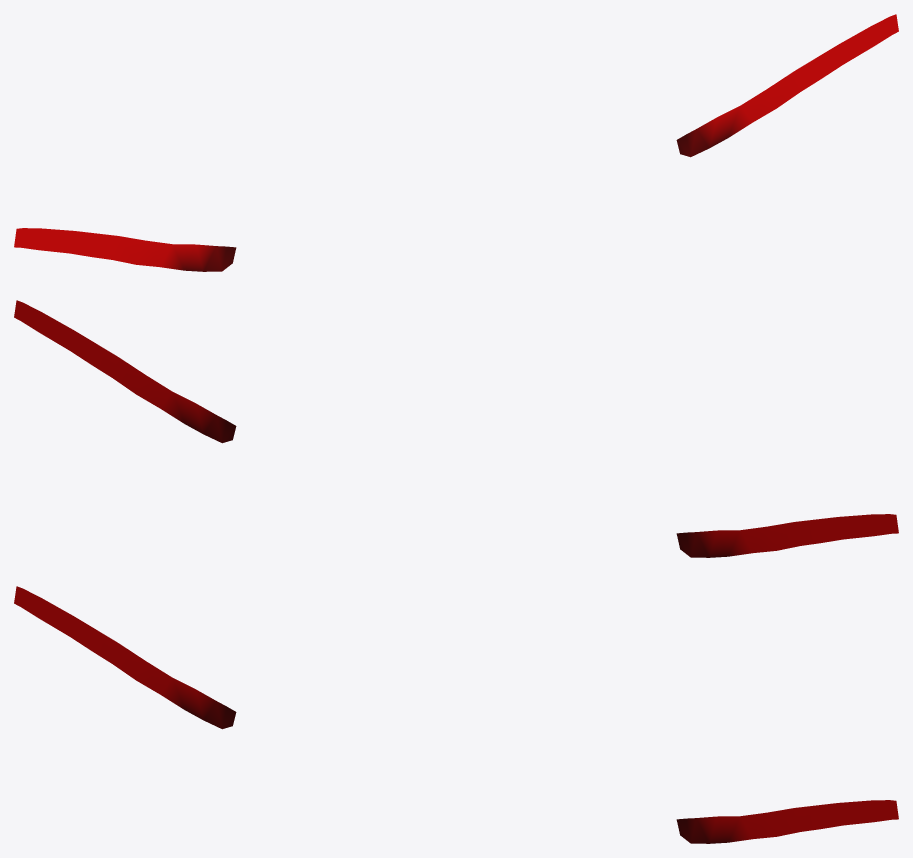
Rendered from frame189.fbx.
3 renders of one model, top to bottom at view 1: azimuth 30°, elevation 25°; view 2: azimuth 150°, elevation 25°; view 3: azimuth 330°, elevation 25°, orthographic.
Parts seen in each view (by area): view 1: MaterialLayer; view 2: MaterialLayer; view 3: MaterialLayer.
Boxes of the visible parts, <box> form: MaterialLayer: <box>14,14,898,271</box>; MaterialLayer: <box>14,300,898,557</box>; MaterialLayer: <box>14,586,898,843</box>.
Size of the model in its own units: 1556 by 156 by 2.52e-08.
